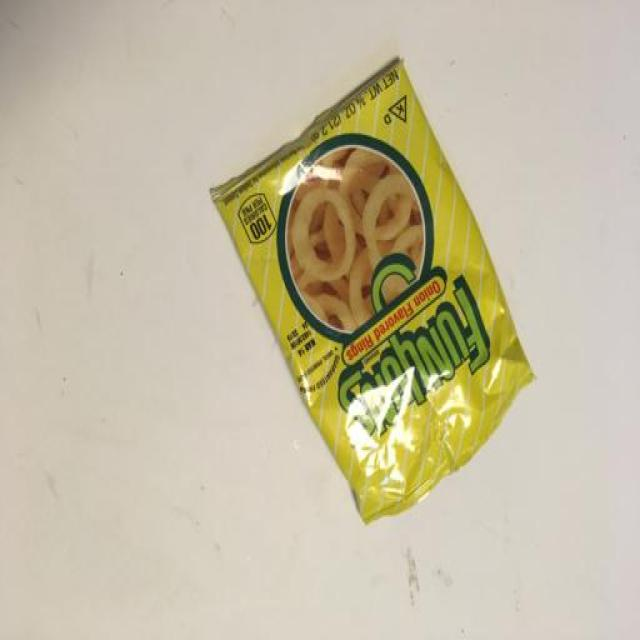Random Trash: (209, 55, 536, 523)
